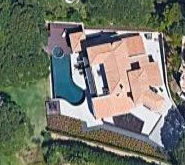pool: (52, 54, 78, 101)
